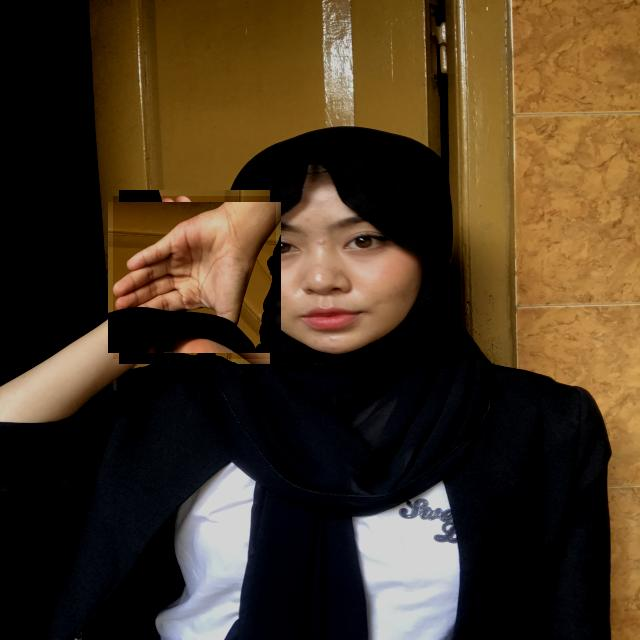mendengar: (113, 196, 276, 359)
